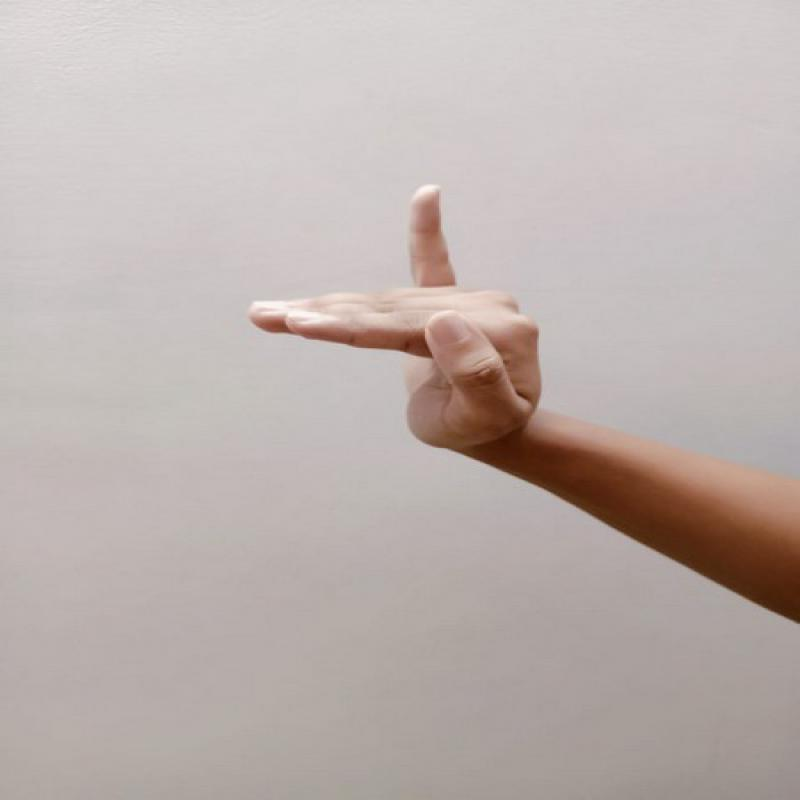Kartharee Mukham: (239, 174, 551, 464)
